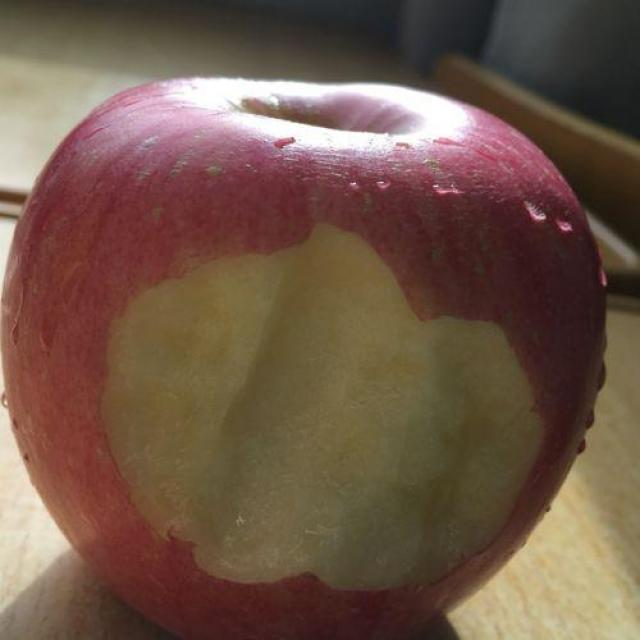Rotten: (5, 64, 613, 640)
